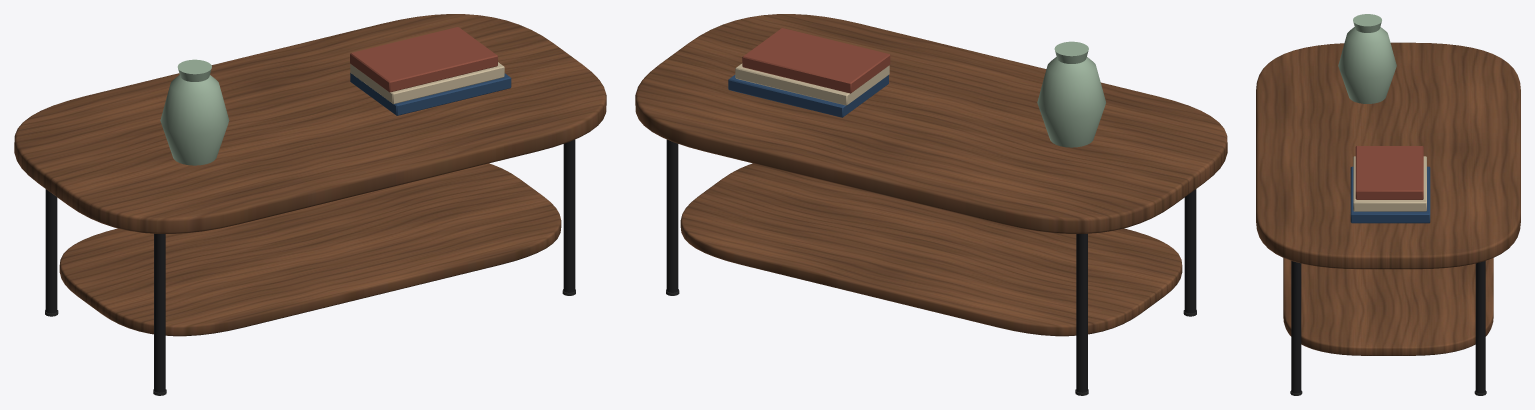
The model's file is coffee-table.glb.
The picture shows the model from 3 angles, left to right: view 1: azimuth 30°, elevation 25°; view 2: azimuth 150°, elevation 25°; view 3: azimuth 270°, elevation 25°; orthographic projection. The views are drawn at different scales.
Visible parts, largest first — view 1: Modern_Coffee_Table; view 2: Modern_Coffee_Table; view 3: Modern_Coffee_Table.
Part boxes in pixels (bbox=[...]): Modern_Coffee_Table: bbox=[14, 14, 606, 395]; Modern_Coffee_Table: bbox=[635, 14, 1227, 395]; Modern_Coffee_Table: bbox=[1256, 14, 1520, 395].
Size of the model in its own units: 1.21 by 0.62 by 0.632.
7 materials, 1 textured.
